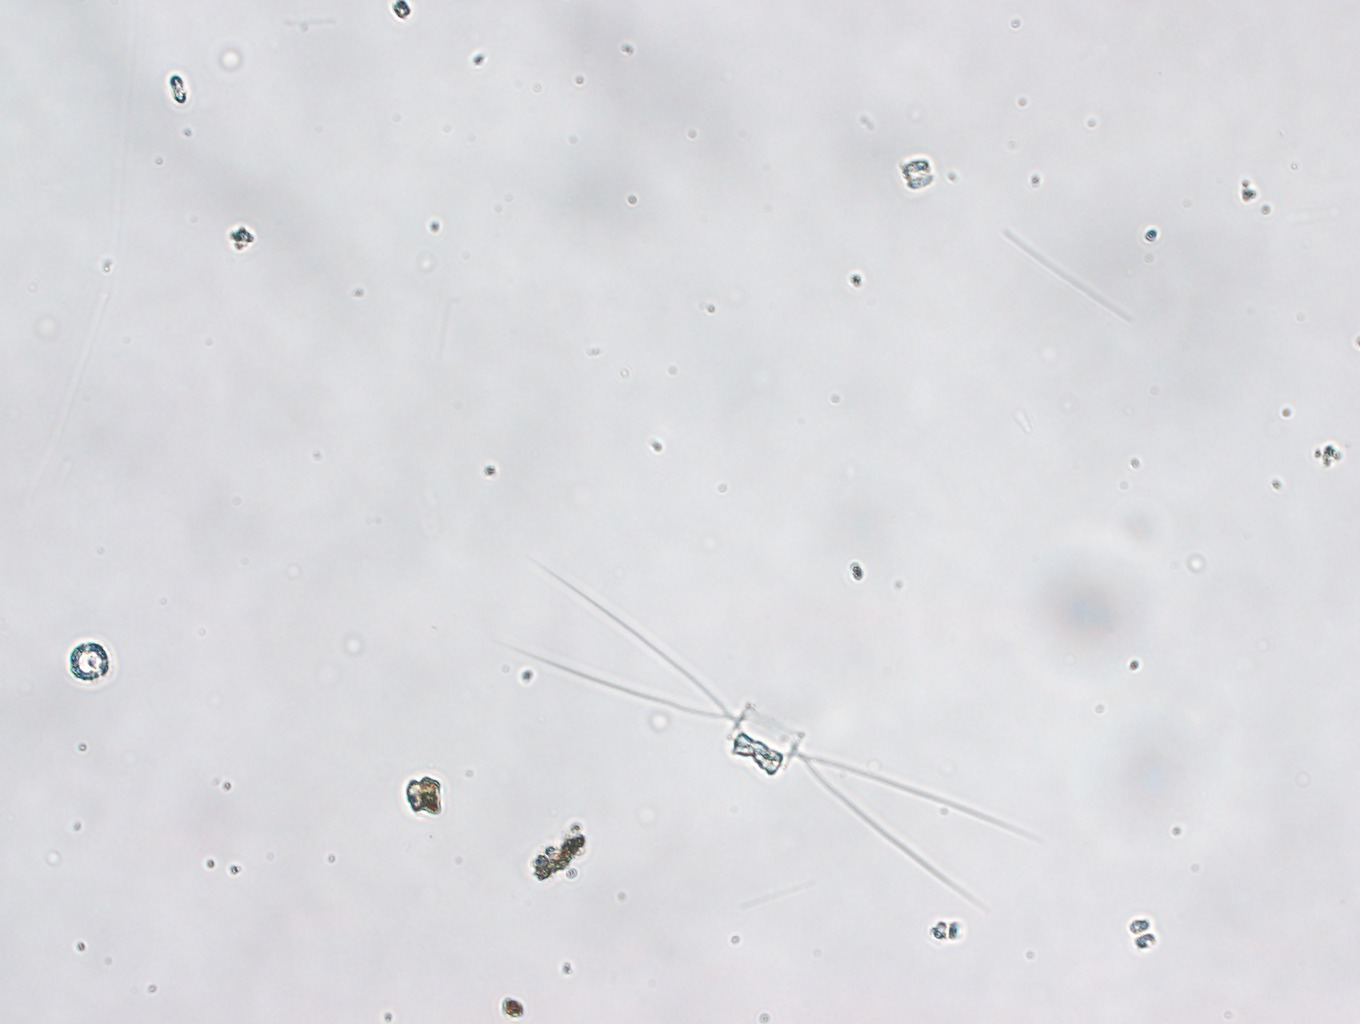chaetoceros: (506, 551, 1036, 914)
